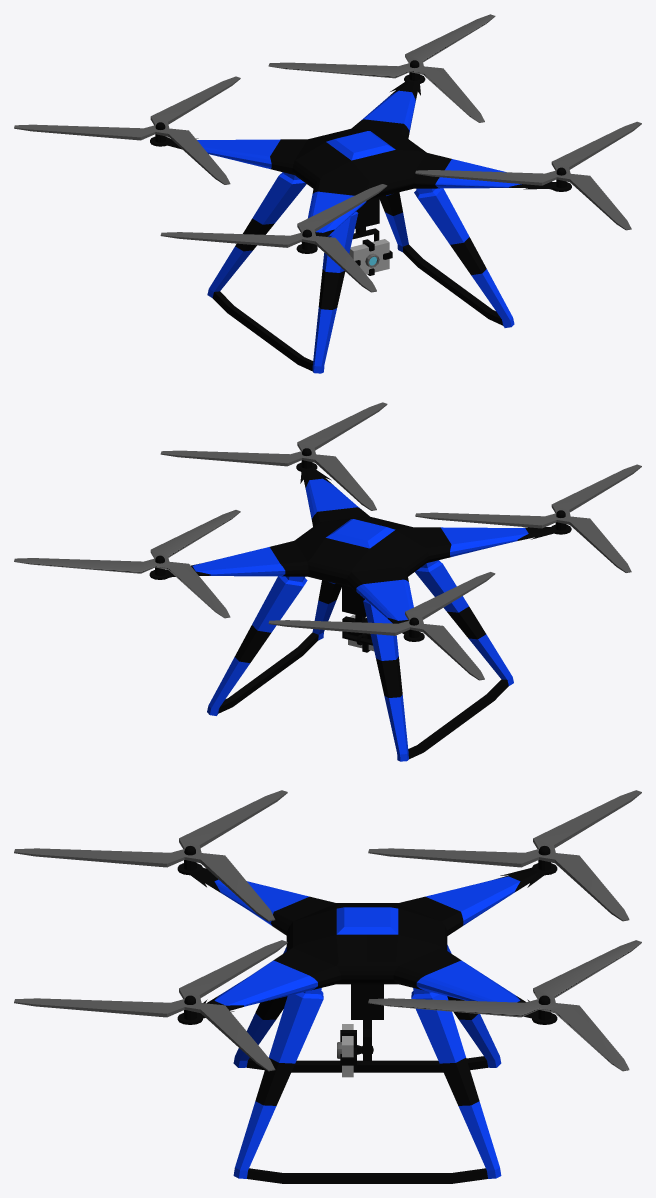
Rendered from drone_low_poly.glb.
3 renders of one model, top to bottom at view 1: azimuth 30°, elevation 25°; view 2: azimuth 150°, elevation 25°; view 3: azimuth 270°, elevation 25°, orthographic. The views are drawn at different scales.
Visible parts, largest first — view 1: Cube, Cylinder.003, Cylinder, Cylinder.001, Cylinder.002, Cube.001; view 2: Cube, Cylinder.001, Cylinder.003, Cylinder.002, Cylinder; view 3: Cube, Cylinder.003, Cylinder.002, Cylinder, Cylinder.001, Cube.001.
Boxes of the visible parts, x1,y1,x2,y2 form: Cube: [150, 60, 571, 373]; Cylinder.003: [160, 184, 387, 292]; Cylinder: [268, 14, 495, 122]; Cylinder.001: [14, 76, 240, 184]; Cylinder.002: [415, 121, 641, 230]; Cube.001: [349, 239, 389, 274]; Cube: [149, 448, 571, 761]; Cylinder.001: [268, 572, 495, 680]; Cylinder.003: [415, 464, 641, 572]; Cylinder.002: [160, 402, 387, 510]; Cylinder: [14, 510, 240, 618]; Cube: [177, 846, 557, 1183]; Cylinder.003: [14, 790, 287, 921]; Cylinder.002: [14, 940, 287, 1071]; Cylinder: [368, 940, 641, 1071]; Cylinder.001: [368, 790, 641, 921]; Cube.001: [337, 1024, 353, 1077].
Bounding box in the file's own units: 8.92 × 3.11 × 8.44.
